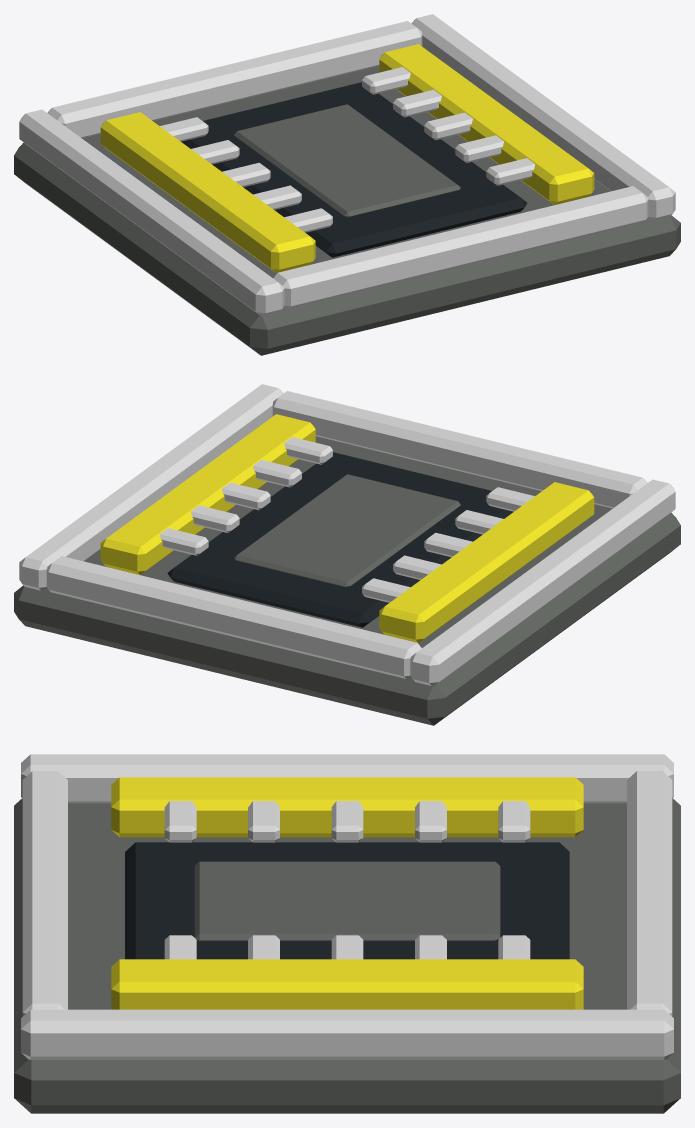
Rendered from terrain-socket.glb.
The picture shows the model from 3 angles, top to bottom: view 1: azimuth 30°, elevation 25°; view 2: azimuth 150°, elevation 25°; view 3: azimuth 270°, elevation 25°; orthographic projection. The views are drawn at different scales.
Parts seen in each view (by area): view 1: terrain-socket; view 2: terrain-socket; view 3: terrain-socket.
Part boxes in pixels (<box>): terrain-socket: <box>14,14,680,355</box>; terrain-socket: <box>14,384,680,725</box>; terrain-socket: <box>14,754,680,1113</box>.
Bounding box in the file's own units: 0.96 × 0.16 × 0.96.
